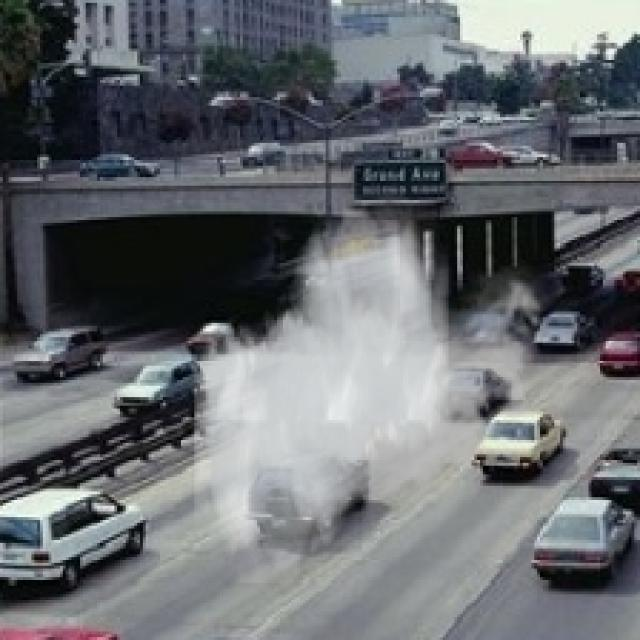Smoke: (195, 194, 554, 583)
